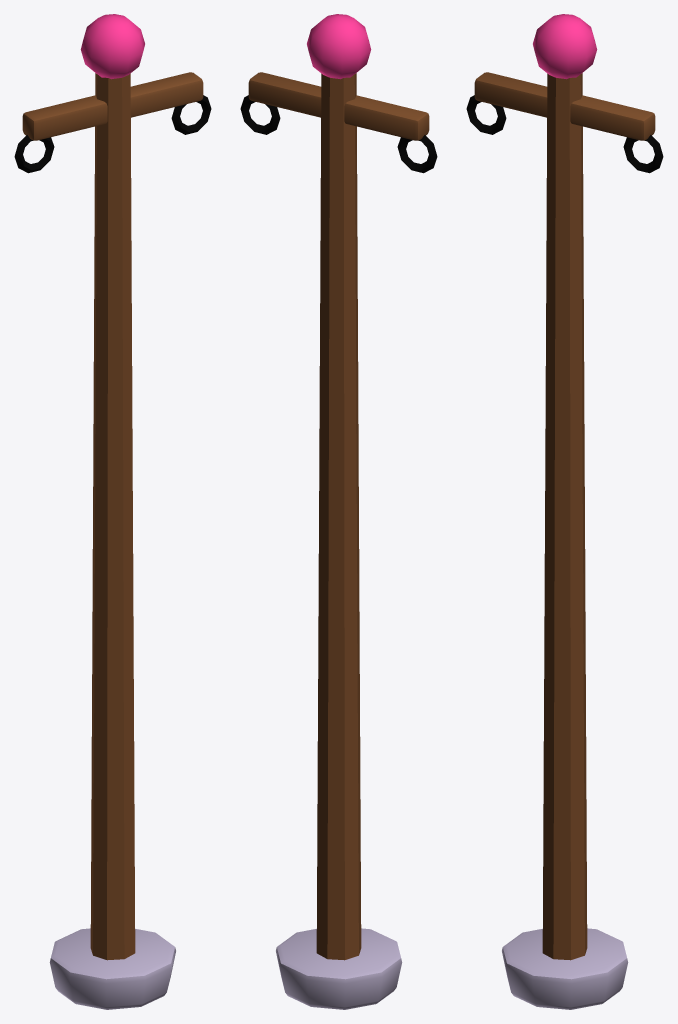
File: lobby_light_pole.fbx
3 views of the same model, side by side, from view 1: azimuth 30°, elevation 25°; view 2: azimuth 150°, elevation 25°; view 3: azimuth 330°, elevation 25° (orthographic).
Visible parts, largest first — view 1: lobby_light_pole; view 2: lobby_light_pole; view 3: lobby_light_pole.
Boxes of the visible parts, x1,y1,x2,y2 form: lobby_light_pole: [14, 14, 211, 1009]; lobby_light_pole: [240, 14, 437, 1009]; lobby_light_pole: [466, 14, 663, 1009].
Bounding box in the file's own units: 2.76 × 13 × 1.57.
Materials: 1 (1 with a texture image).
